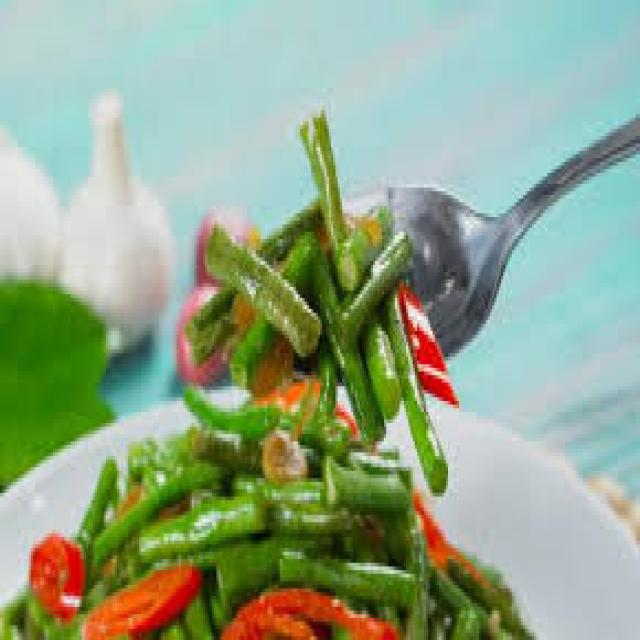kacang_panjang: (170, 110, 444, 473), (22, 445, 525, 640)
